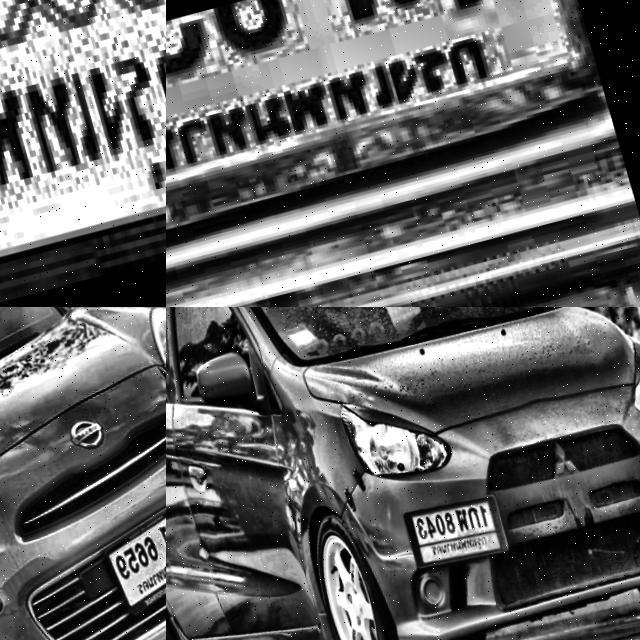license-plate: (166, 0, 617, 294), (0, 0, 166, 307), (166, 235, 640, 307), (88, 491, 166, 628), (394, 488, 506, 569)
